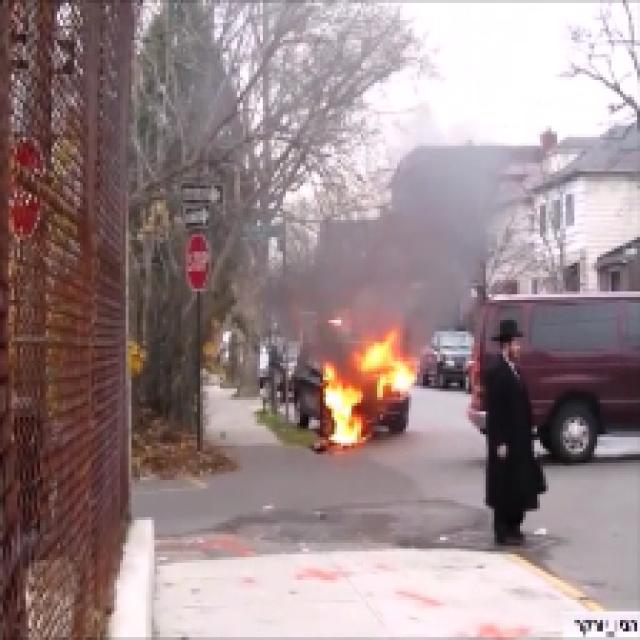fire: (319, 370, 365, 448), (369, 344, 417, 389)
smoke: (294, 238, 466, 327)
